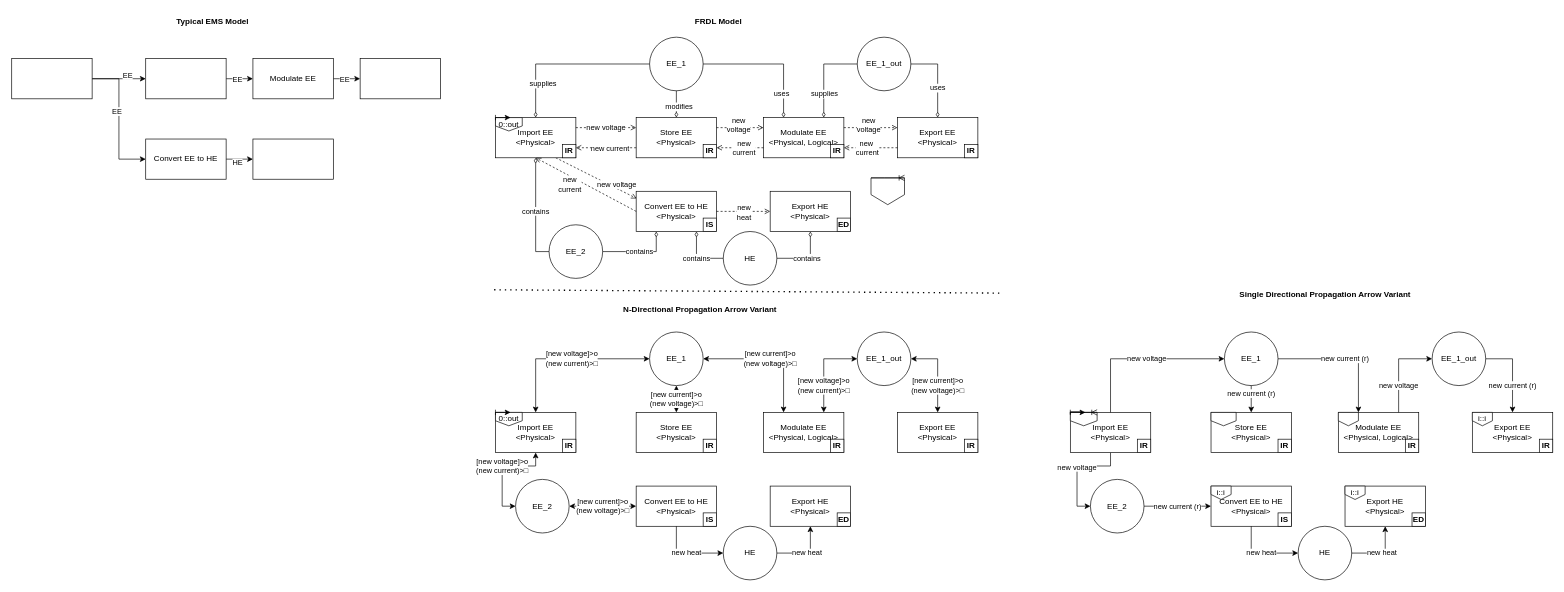
The diagram is 1564 pixels wide and 592 high, and some of its shapes have lost their labels. The shapes that lost their labels are listed below. From the top down, each one's box as (x1, y1, x2, y2) in pixels, then its label:
(11, 58, 92, 99): Import EE
(145, 58, 226, 99): Store EE
(359, 58, 441, 99): Export EE
(252, 138, 333, 179): Export HE
(870, 177, 904, 205): no new states
(1070, 412, 1097, 426): s::e
(1210, 412, 1236, 426): i:1m:i
(1338, 412, 1358, 426): i:1s:i
